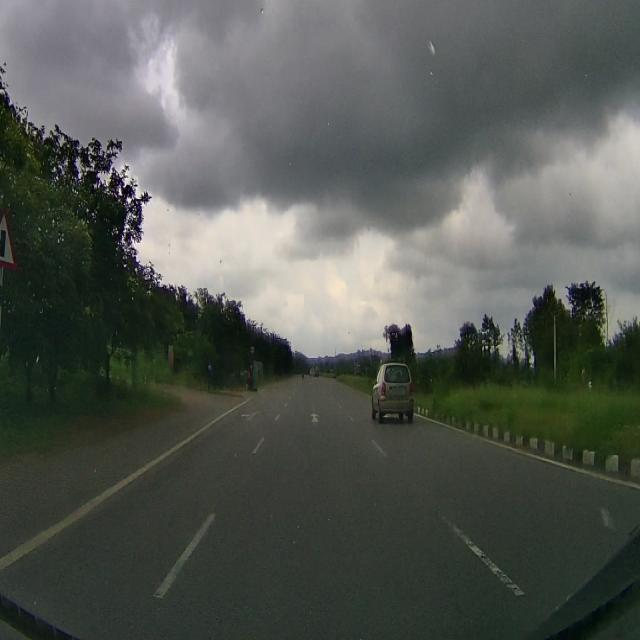car ahead at: (372, 356, 413, 428)
